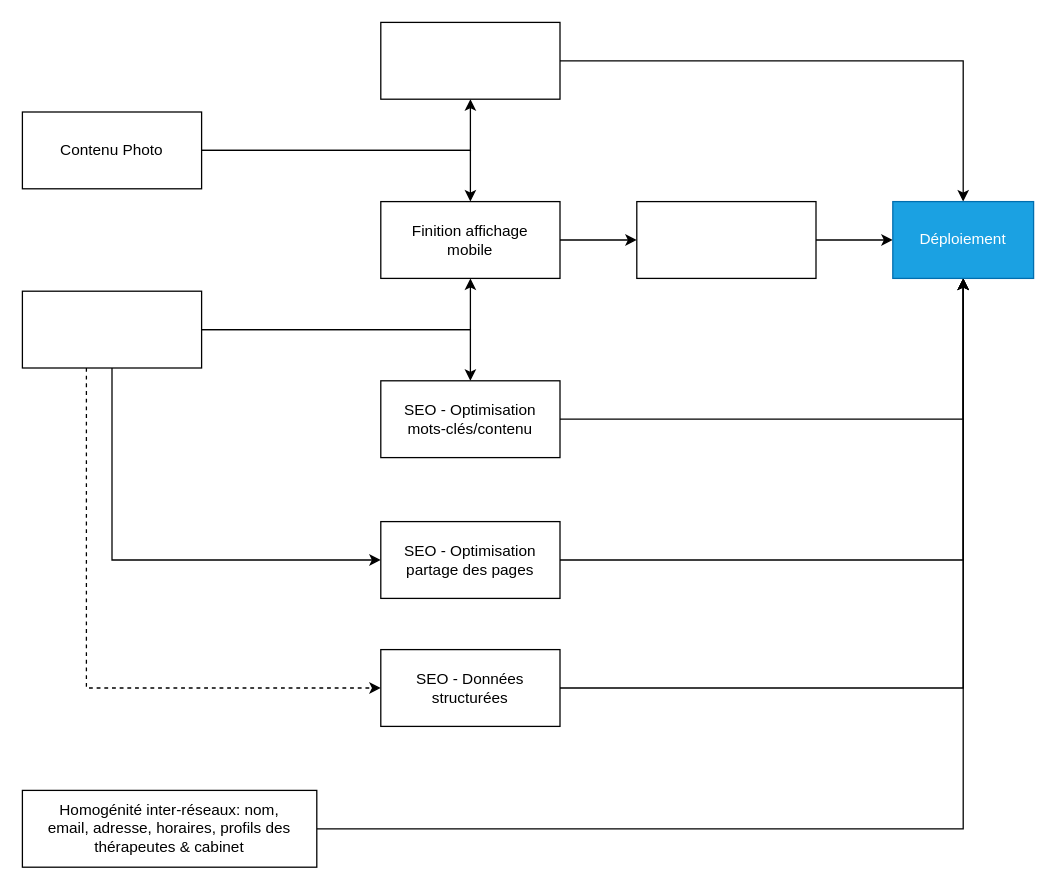
This 1056x890 diagram has some shape labels left out. Each missing label, with the centre of its shape:
Contenu Editorial: the point at 111,329
Finition affichage desktop/labtop: the point at 726,239
SEO - Optimisation technique: the point at 470,60
